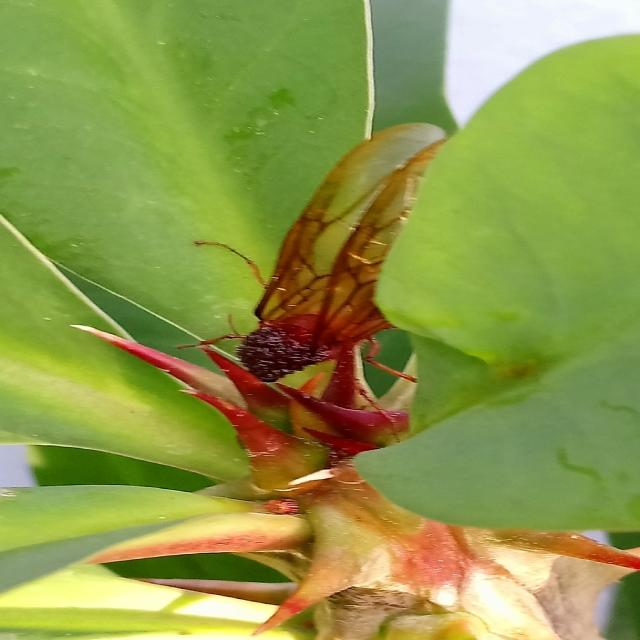Alive-Female-Alate: (174, 122, 462, 443)
